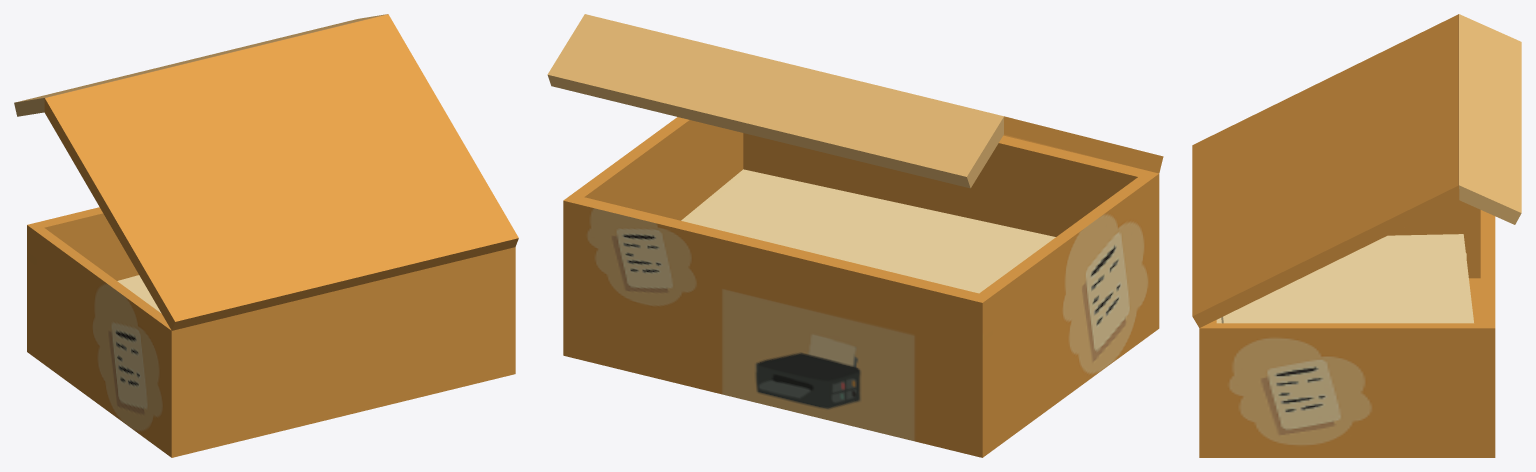
The model's file is SM_PaperBox.fbx.
The picture shows the model from 3 angles, left to right: view 1: azimuth 30°, elevation 25°; view 2: azimuth 150°, elevation 25°; view 3: azimuth 270°, elevation 25°; orthographic projection. The views are drawn at different scales.
Parts seen in each view (by area): view 1: SM_PaperBox; view 2: SM_PaperBox; view 3: SM_PaperBox.
Part boxes in pixels (x1,y1,x2,y2): SM_PaperBox: [14, 14, 518, 457]; SM_PaperBox: [547, 14, 1163, 457]; SM_PaperBox: [1192, 14, 1521, 457].
Size of the model in its own units: 48.62 by 36.1 by 39.51.
